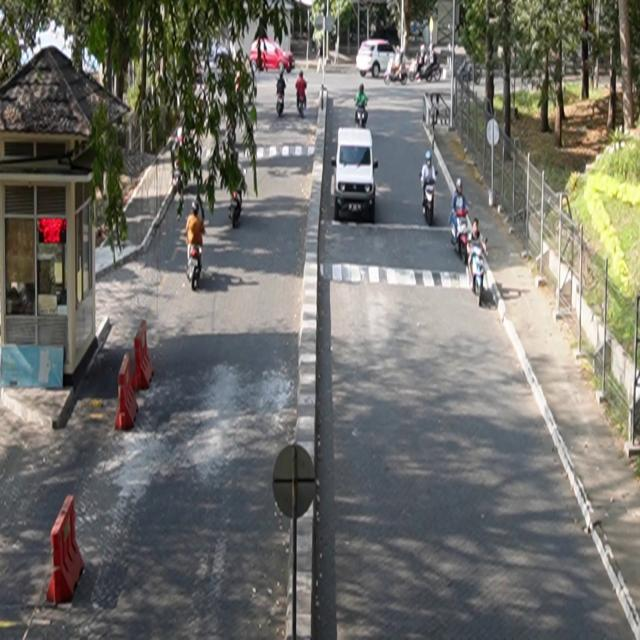car: (332, 127, 379, 223), (251, 38, 296, 74), (357, 39, 397, 79)
